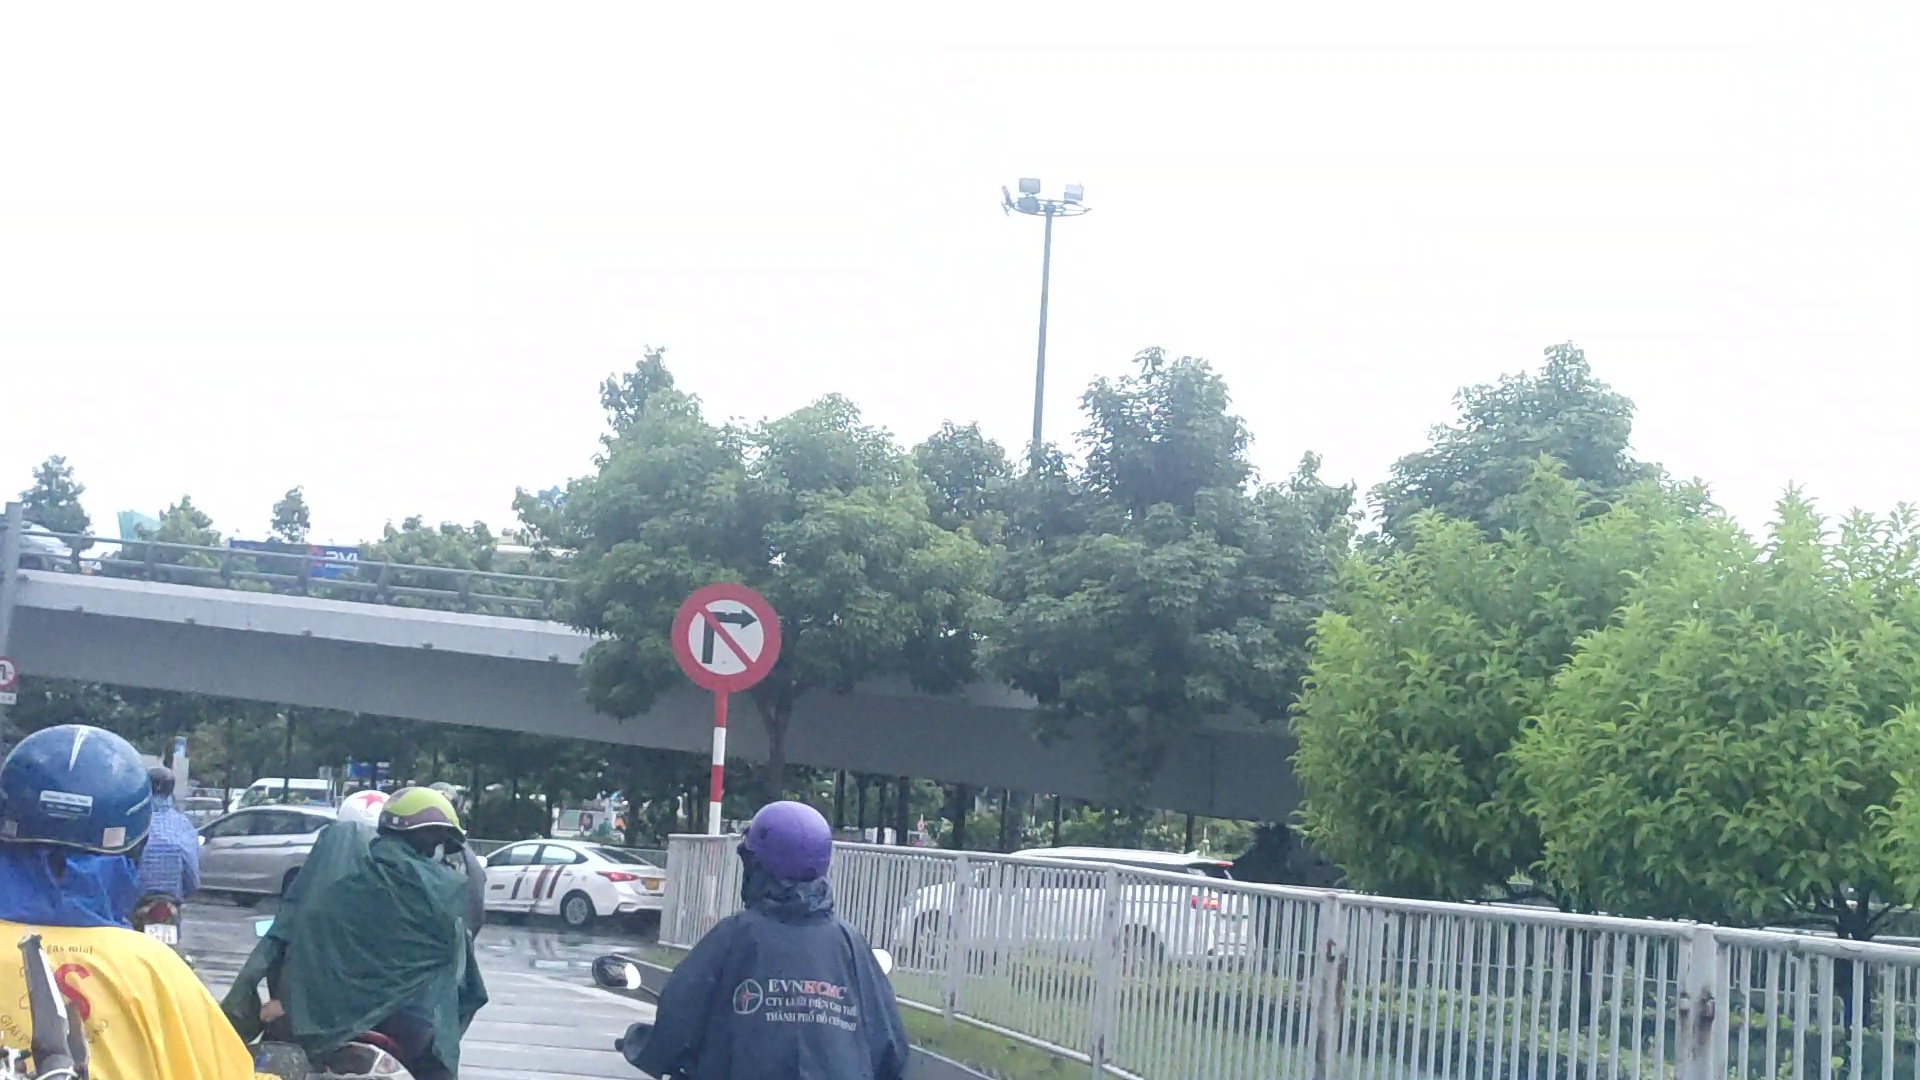P.123b: (673, 582, 782, 692)
